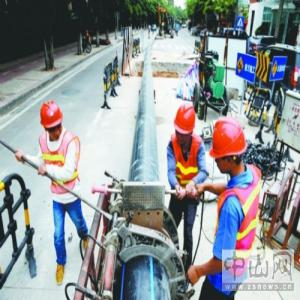red: (211, 120, 248, 176), (41, 101, 65, 143), (175, 105, 197, 147)
